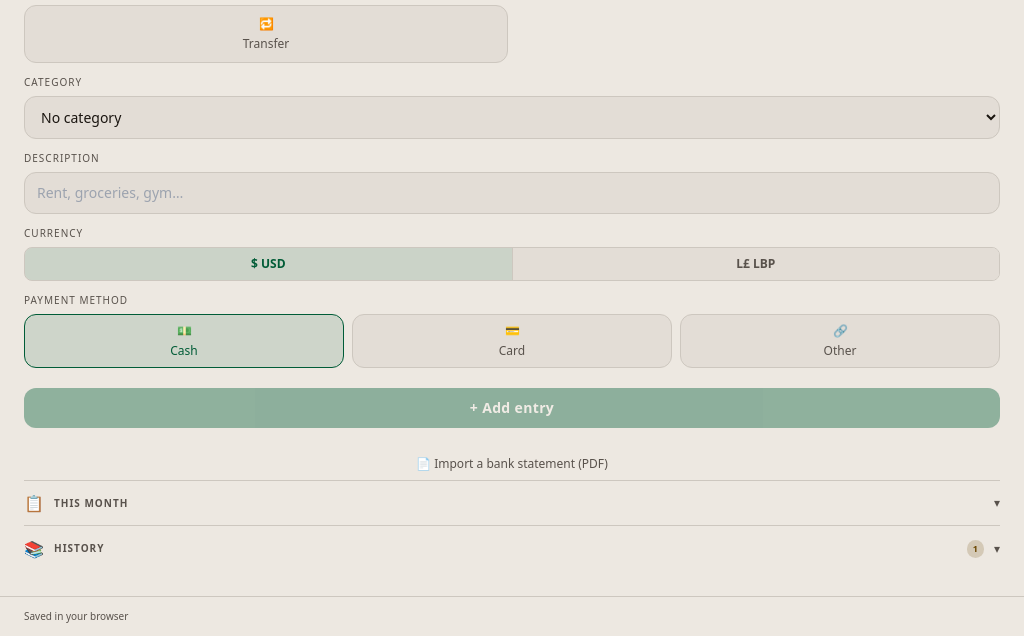
History: a past month's row › shows the description, its day and category, and the amount
(page scrolled)
Click the button "📚 History 1 ▾".
click(79, 548)  # box [24,526,1000,572]
(page scrolled)
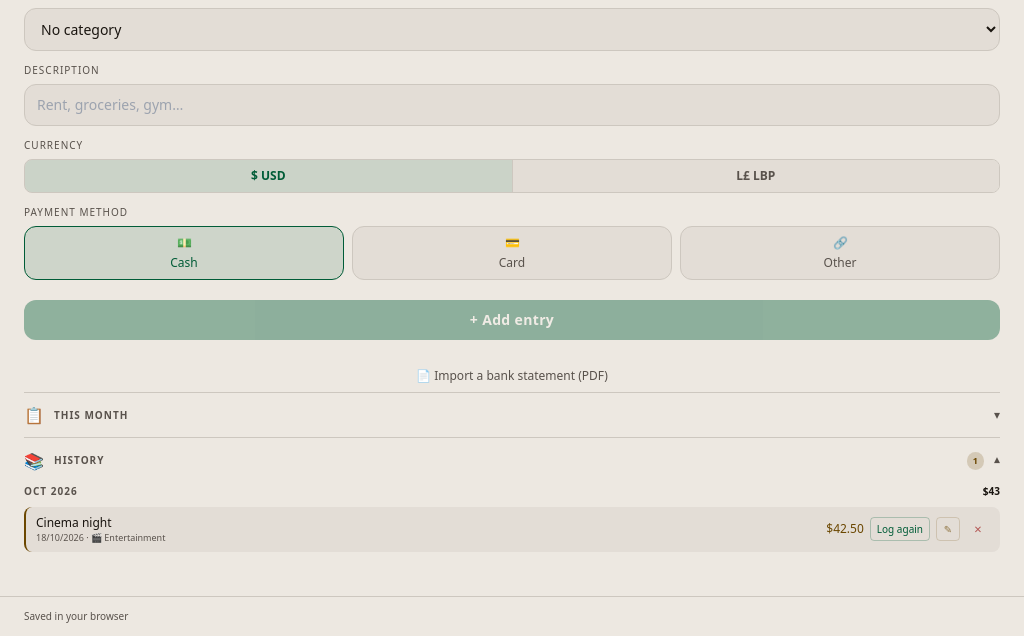
Result: the text "Cinema night" is shown at [36,514,112,530]
Result: the text "Cinema night" shows "18/10/2026" at [36,530,84,544]
Result: the text "Cinema night" shows "$42.50" at [826,520,864,537]
